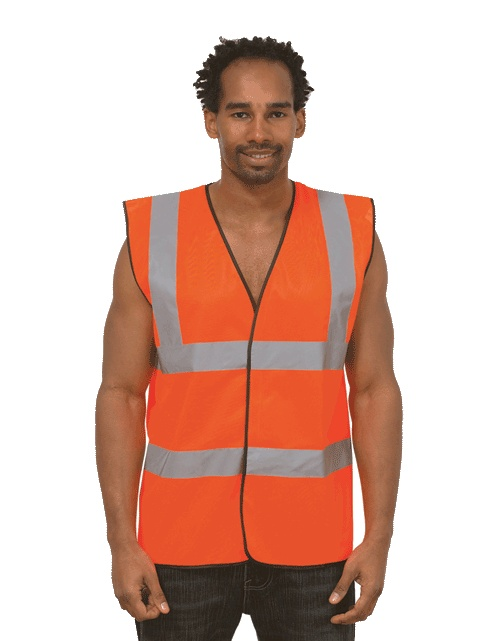person with partial safety: (97, 39, 391, 641)
safety vest: (122, 190, 383, 565)
